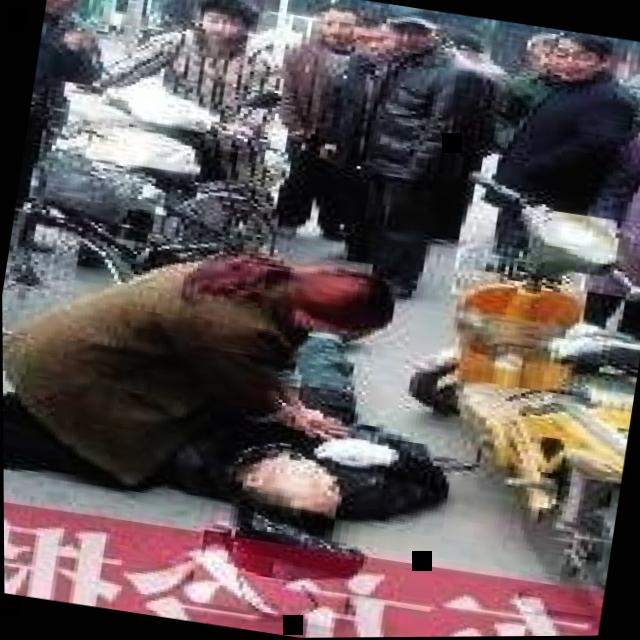Fall-Detected: (205, 344, 489, 558)
